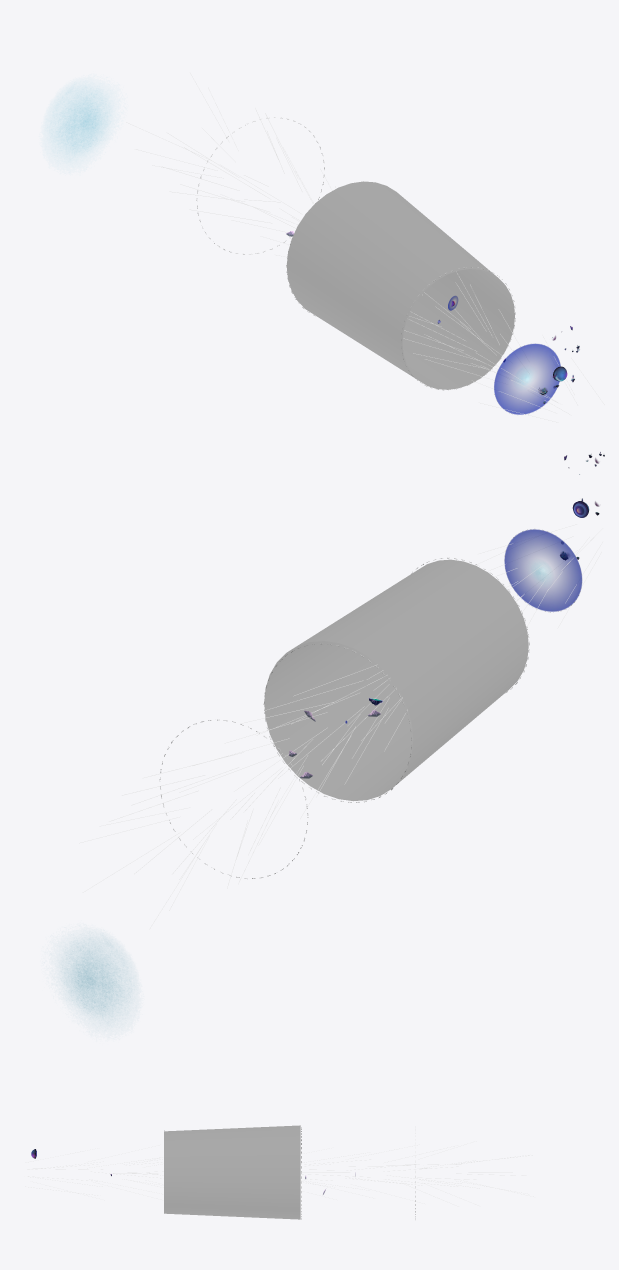
File: GithubSceneNew2_compressed.glb
3 renders of one model, top to bottom at view 1: azimuth 30°, elevation 25°; view 2: azimuth 150°, elevation 25°; view 3: azimuth 270°, elevation 25°, orthographic. The views are drawn at different scales.
Parts seen in each view (by area): view 1: VortexCyliinder, InnerBlueAura1, FinalImage; view 2: VortexCyliinder, InnerBlueAura1, FinalImage; view 3: VortexCyliinder.
Part boxes in pixels (left/top/right/bottom): VortexCyliinder: left=286, top=181, right=514, bottom=389; InnerBlueAura1: left=494, top=344, right=560, bottom=414; FinalImage: left=55, top=87, right=107, bottom=153; VortexCyliinder: left=264, top=559, right=528, bottom=801; InnerBlueAura1: left=504, top=529, right=581, bottom=611; FinalImage: left=64, top=939, right=130, bottom=1016; VortexCyliinder: left=164, top=1125, right=300, bottom=1219.
Size of the model in its own units: 49.07 by 54.08 by 245.
32 materials, 30 textured.
